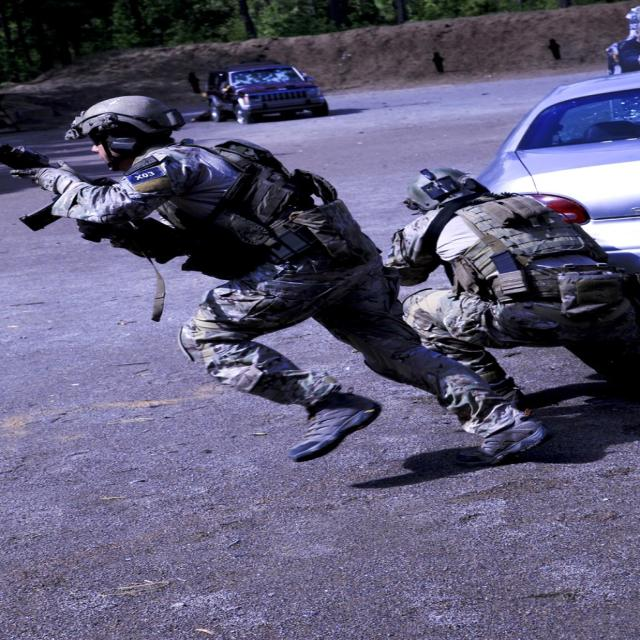car: (467, 63, 638, 280), (198, 58, 338, 114)
